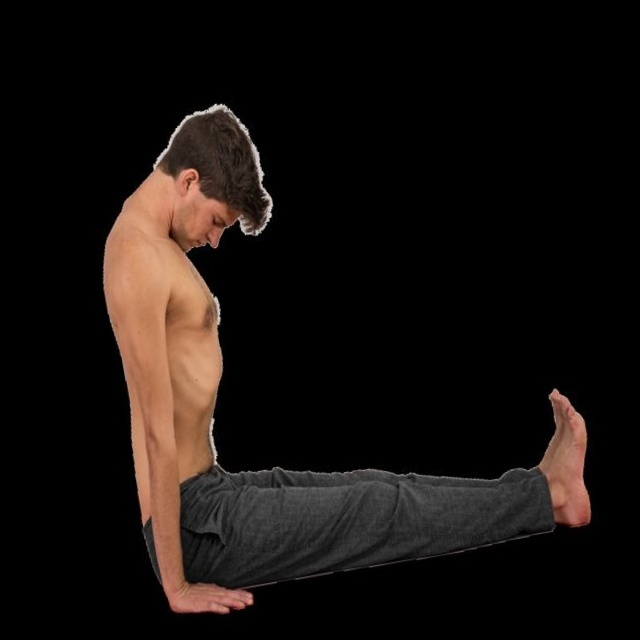Staff_Pose: (107, 103, 593, 618)
